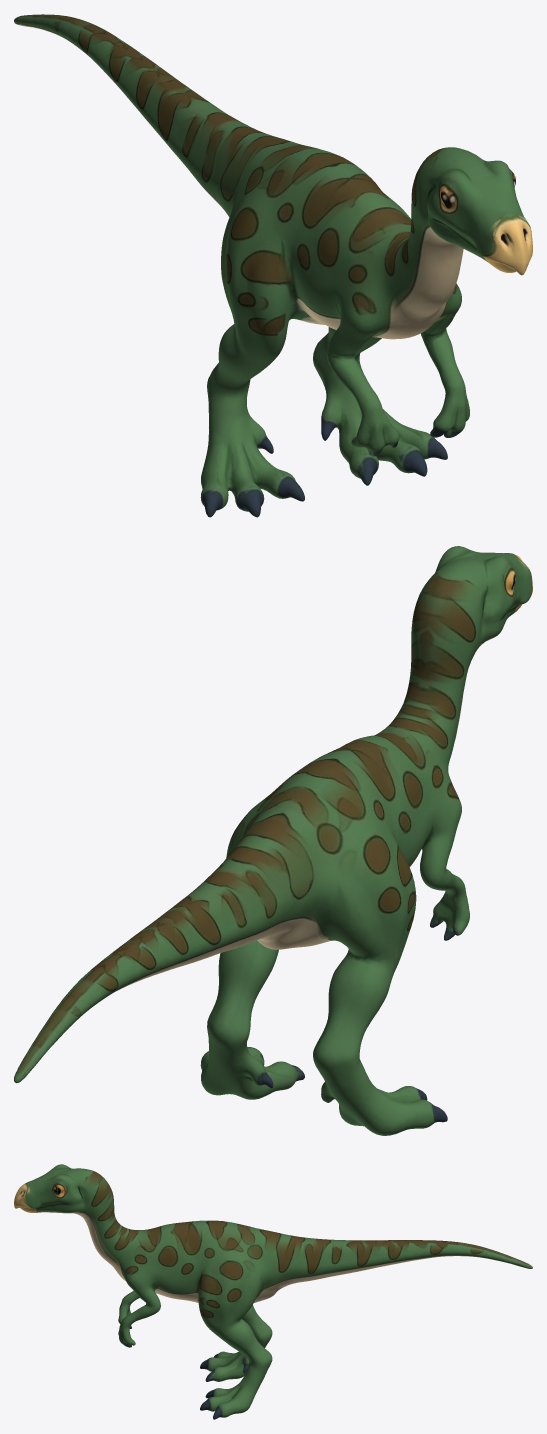
Rendered from F-dino.glb.
3 views of the same model, one above another, from view 1: azimuth 30°, elevation 25°; view 2: azimuth 150°, elevation 25°; view 3: azimuth 270°, elevation 25° (orthographic). The views are drawn at different scales.
Size of the model in its own units: 0.5191 by 0.8939 by 1.9.
1 material, 1 textured.
